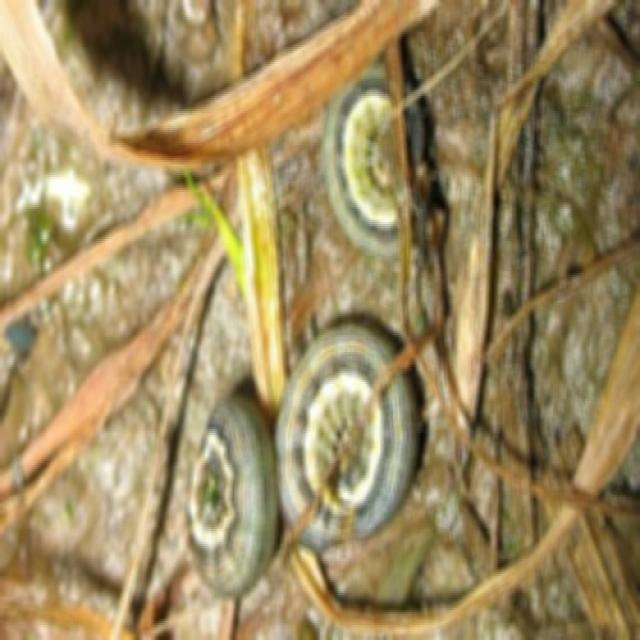army worm: (278, 306, 436, 549), (325, 60, 440, 258), (186, 386, 279, 602)
